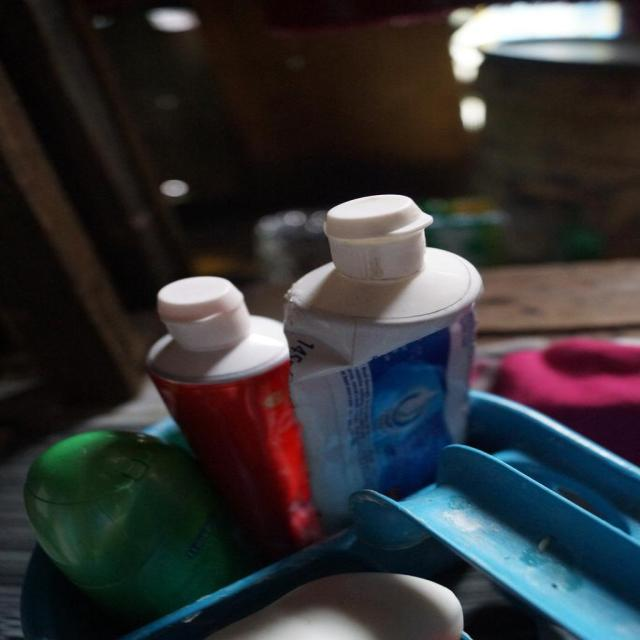Toothpaste: (282, 184, 482, 499), (138, 271, 314, 564)
